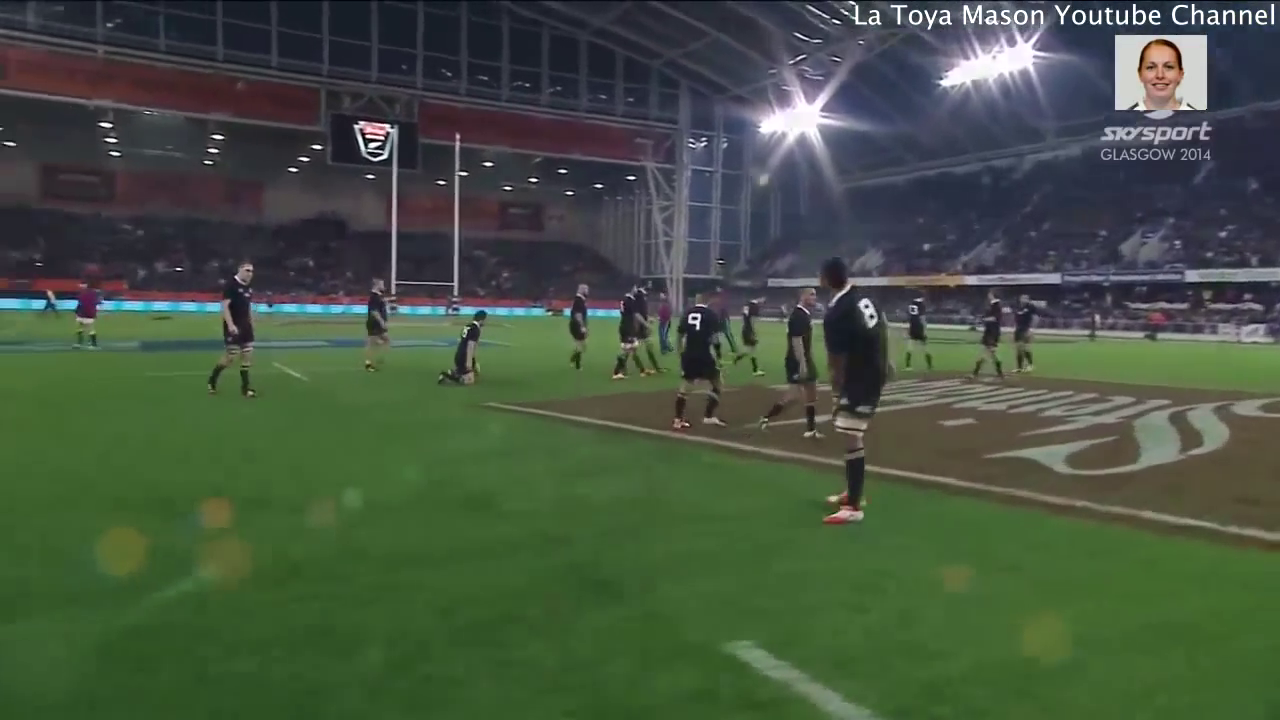player: (812, 253, 894, 532), (201, 255, 266, 406), (759, 285, 821, 440), (673, 291, 725, 436), (429, 306, 485, 393), (963, 288, 1009, 388), (610, 283, 649, 383), (733, 288, 770, 380), (356, 275, 388, 381), (903, 294, 941, 381), (561, 279, 593, 382), (72, 272, 109, 356), (636, 283, 661, 376), (1009, 292, 1036, 374), (649, 288, 676, 352)
post: (385, 124, 467, 323)
